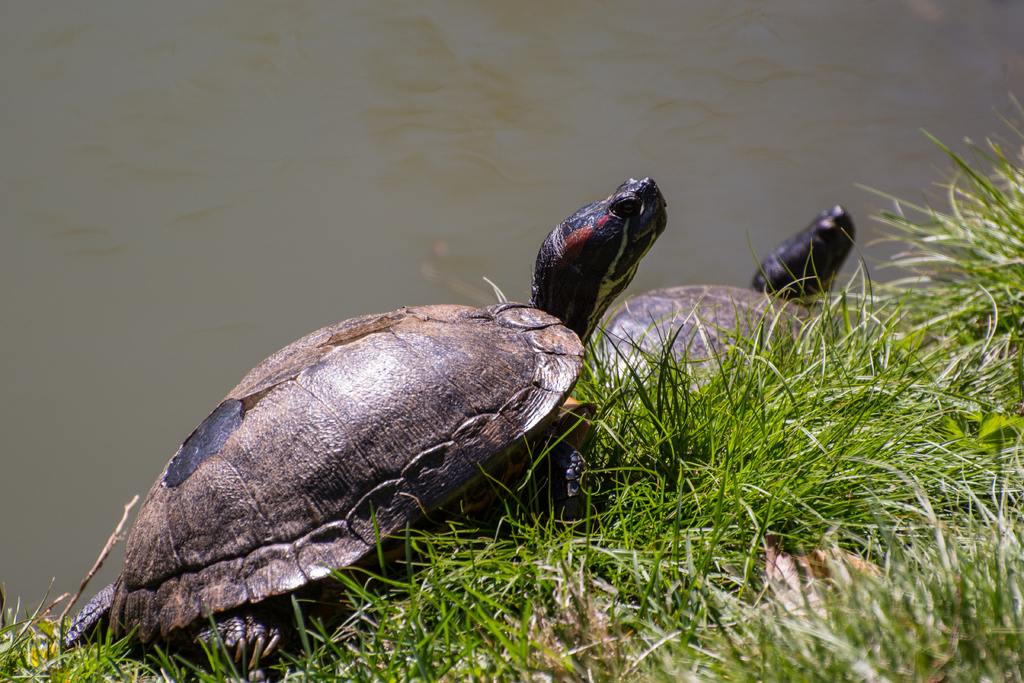Sea turtles: (57, 176, 666, 682), (565, 201, 857, 517)
